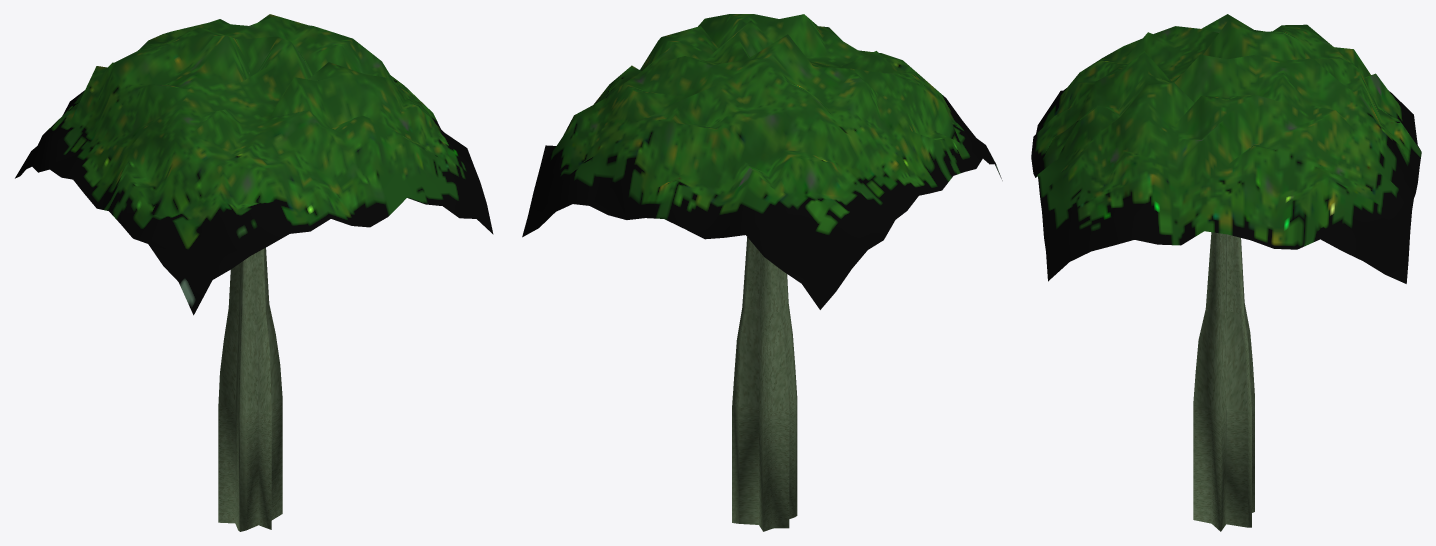
Rendered from kapok_tree_3_6.dae.
The picture shows the model from 3 angles, left to right: view 1: azimuth 30°, elevation 25°; view 2: azimuth 150°, elevation 25°; view 3: azimuth 270°, elevation 25°; orthographic projection.
Parts seen in each view (by area): view 1: Plane, Cube; view 2: Plane, Cube; view 3: Plane, Cube.
Part boxes in pixels (bbox=[...]): Plane: bbox=[15, 14, 493, 315]; Cube: bbox=[218, 247, 282, 531]; Plane: bbox=[522, 14, 1002, 309]; Cube: bbox=[732, 237, 797, 531]; Plane: bbox=[1031, 14, 1421, 283]; Cube: bbox=[1193, 232, 1254, 531].
Size of the model in its own units: 0.756 by 0.7639 by 1.05.
Materials: 2 (2 with a texture image).
